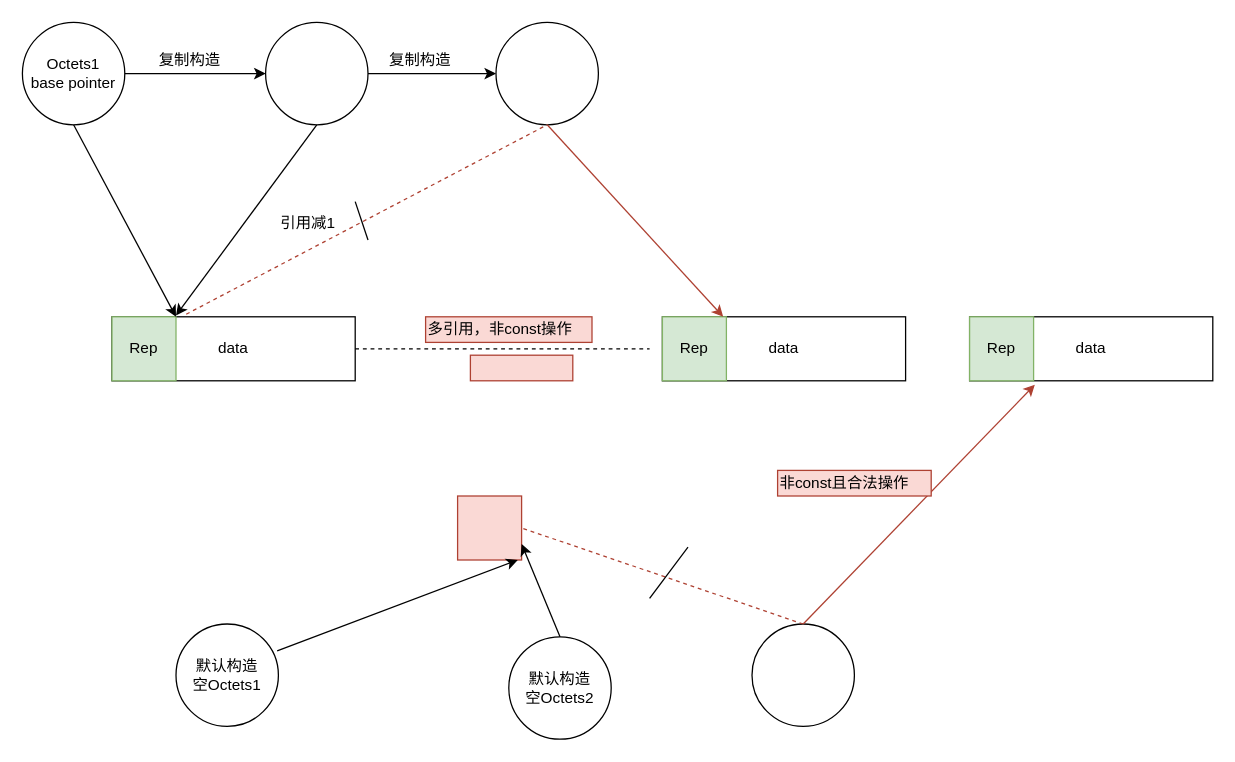
Image size: 1235x762. Some labels were removed from this diagram. The shapes that lost their labels are listed below. From the top down, each one's centre as x and y in pixels, then its label:
point (316, 73): Octets2 base pointer
point (546, 73): Octets3 base pointer
point (521, 367): unique/clone
point (489, 527): static Rep null
point (802, 674): 默认构造 空Octets3
